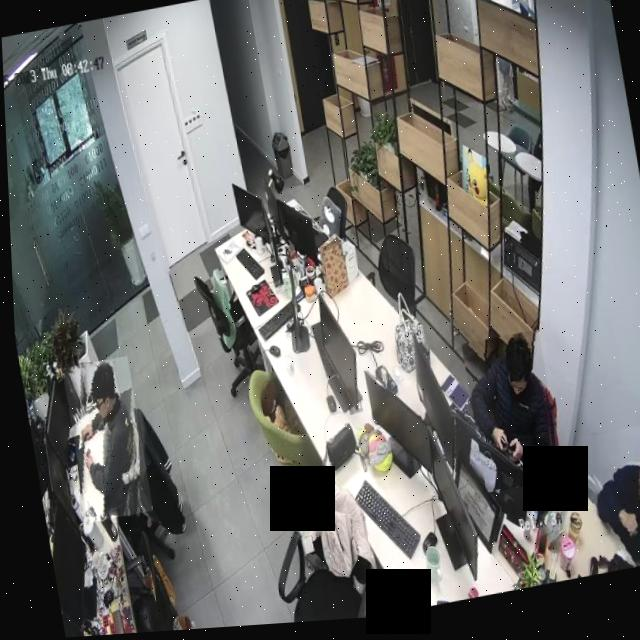person: (458, 335, 559, 500), (58, 356, 148, 525), (575, 430, 640, 582)
